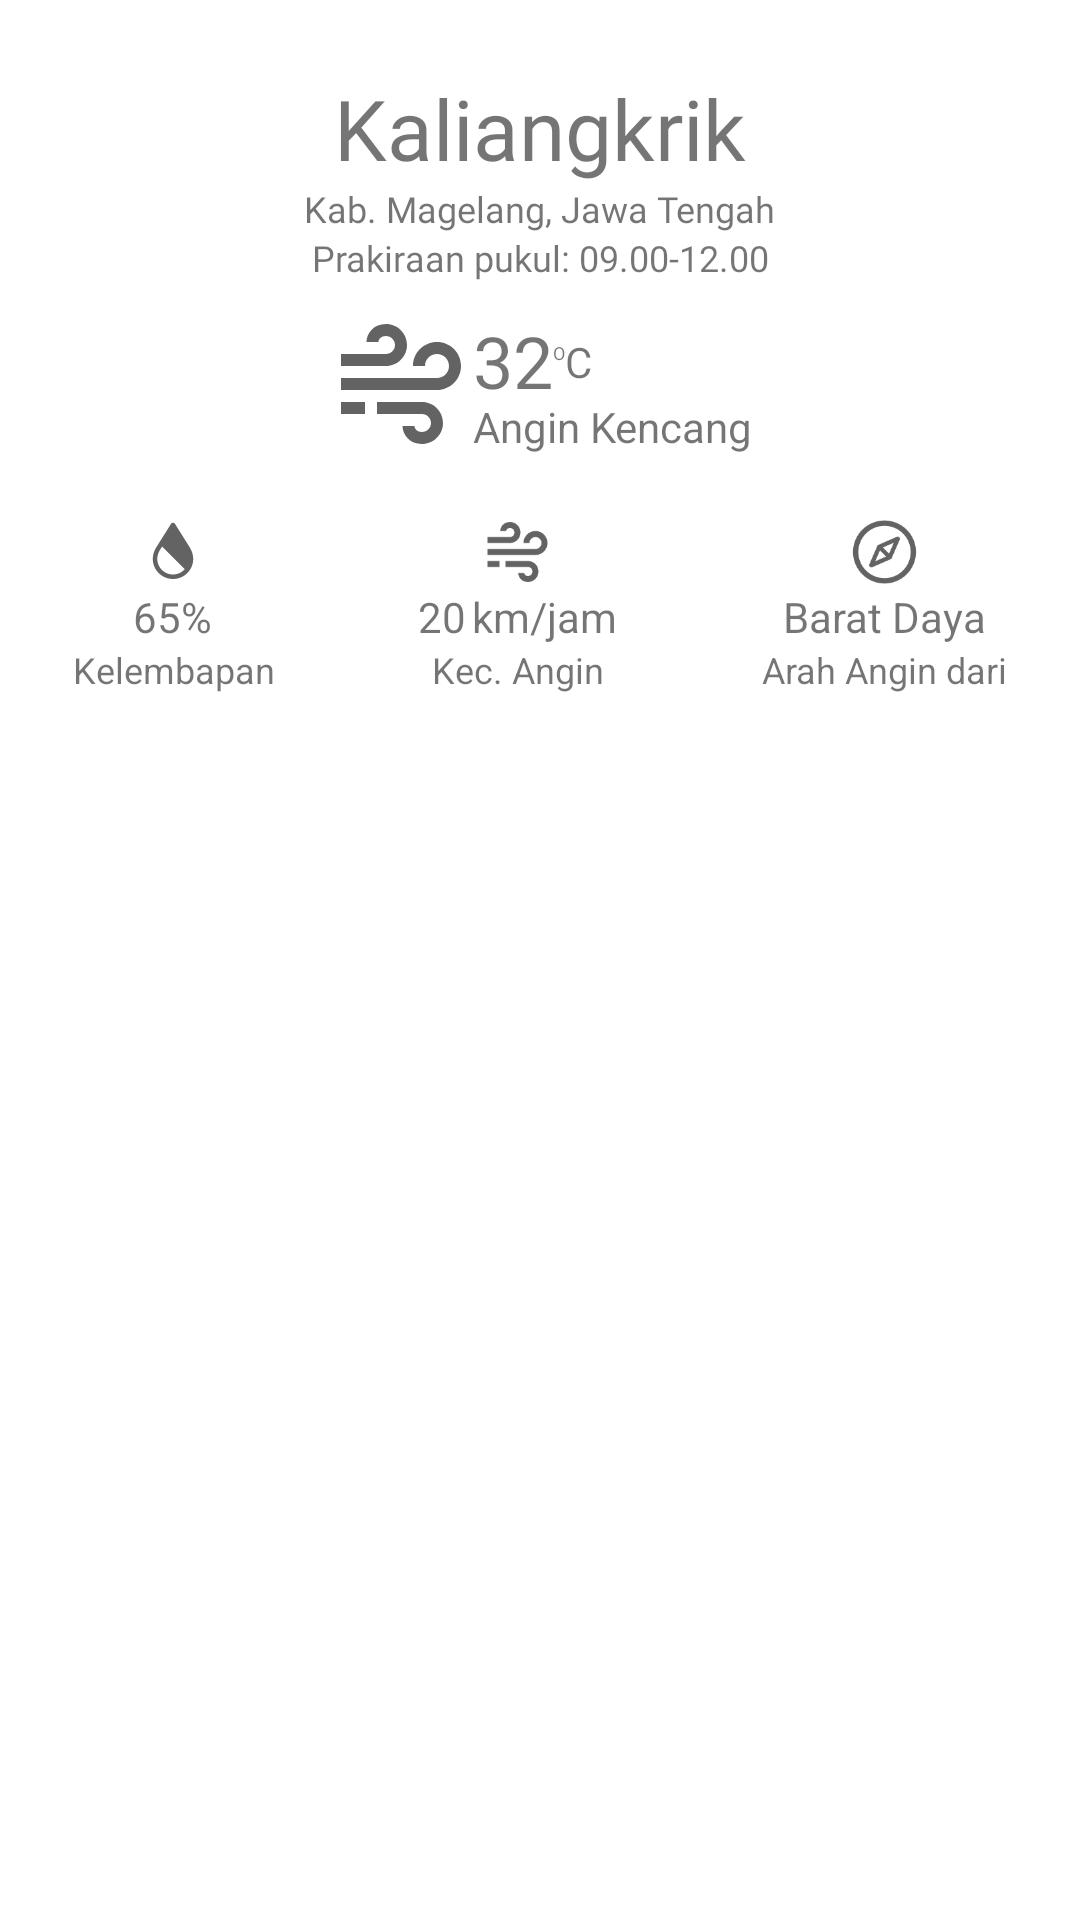

Named icons in this screenshot (1080w x 1920h) and their centers, (x,y):
compass: (884,552)
humidity: (173,550)
wind: (401,384), (517,552)
